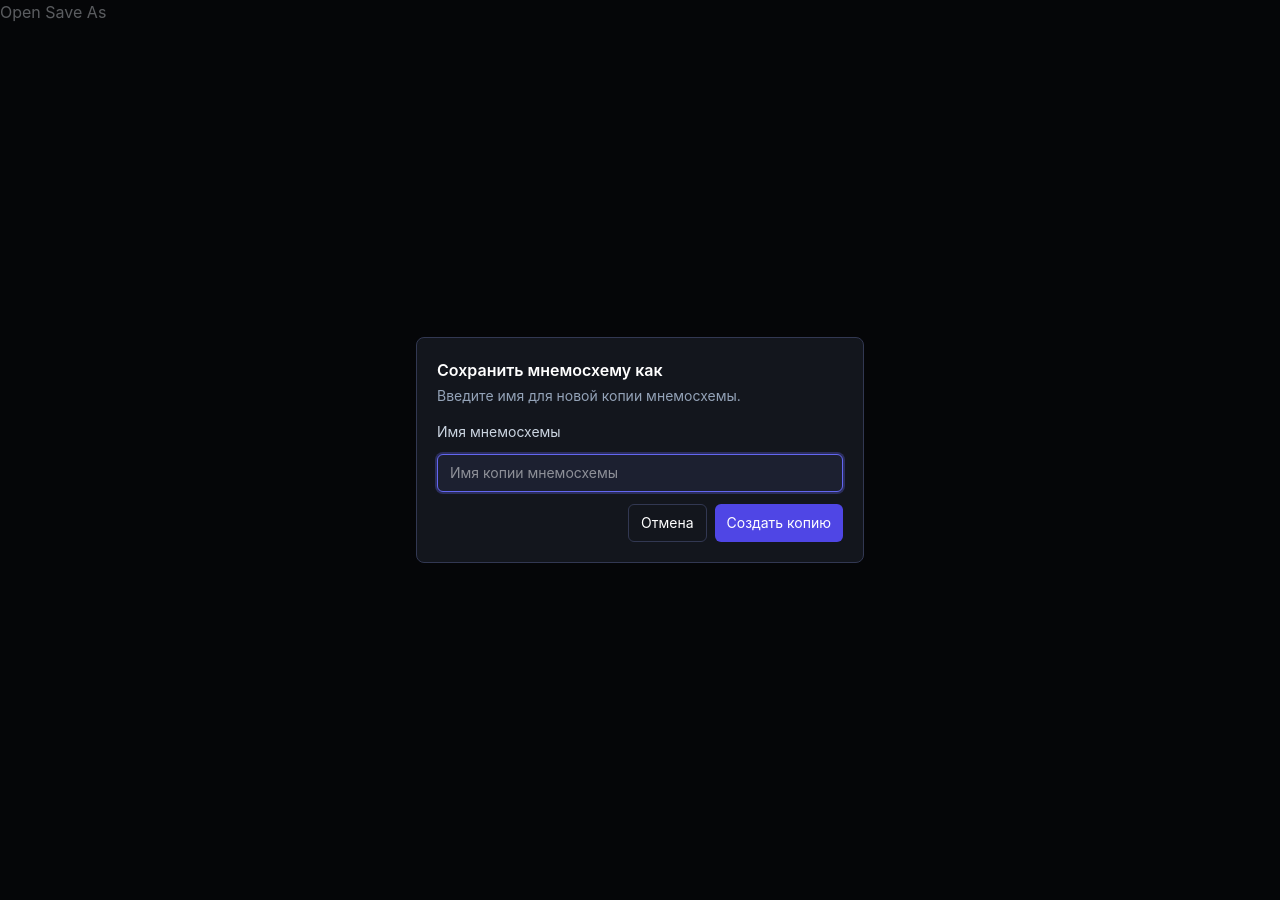
Test case: Hosted constructor save flow coverage (T016) › runs Save As naming flow through dialog + clone API with trimmed name (T019)
This screenshot has width=1280, height=900.
Click the button "Создать копию".
click(779, 523)  # box [714,504,843,542]
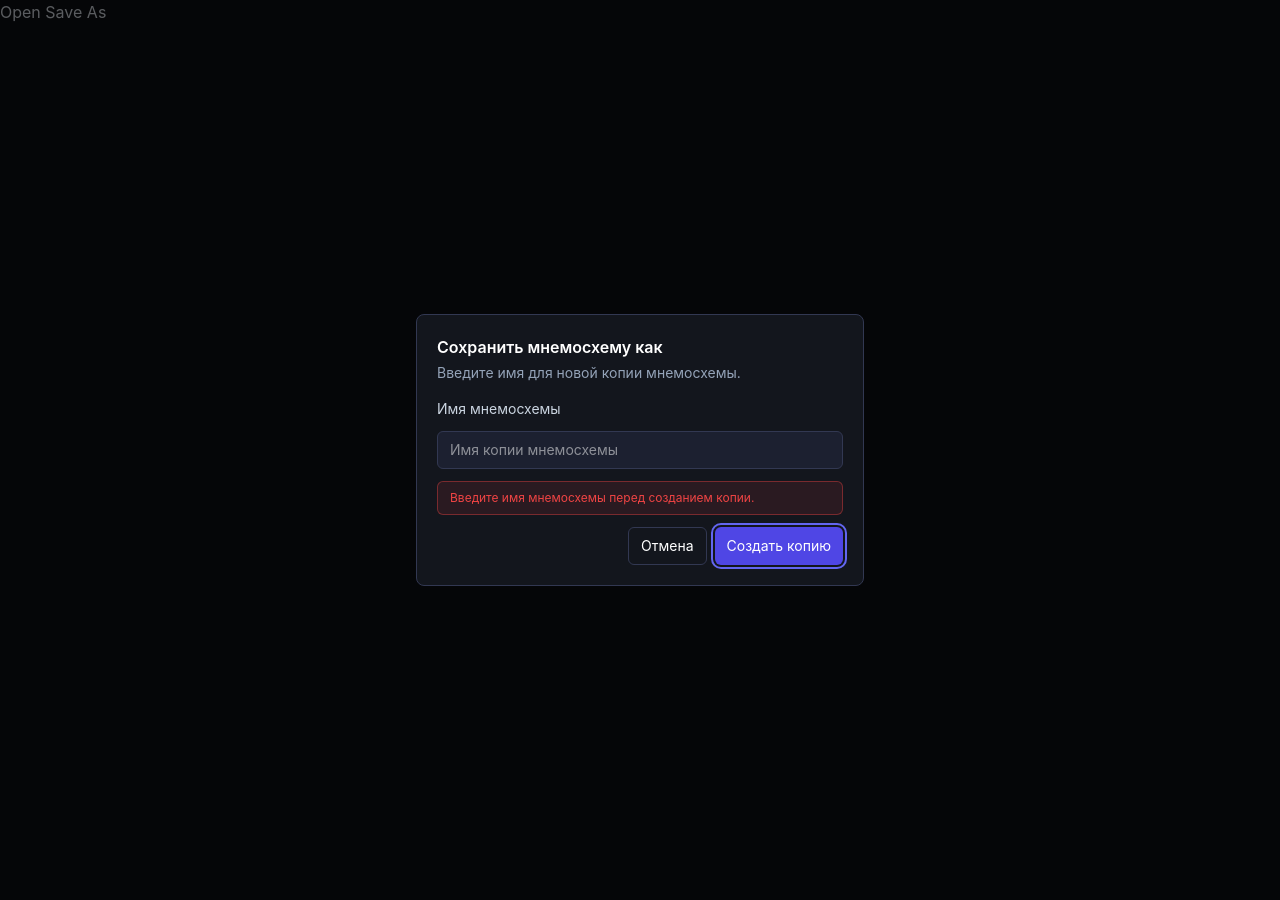
Now the text "Введите имя мнемосхемы перед созданием копии." is shown, box [437,481,843,515]
Type "   Boiler Hall Copy   " into the field labelled "Имя мнемосхемы".
click(640, 450); type("   Boiler Hall Copy   ")  # box [437,431,843,469]
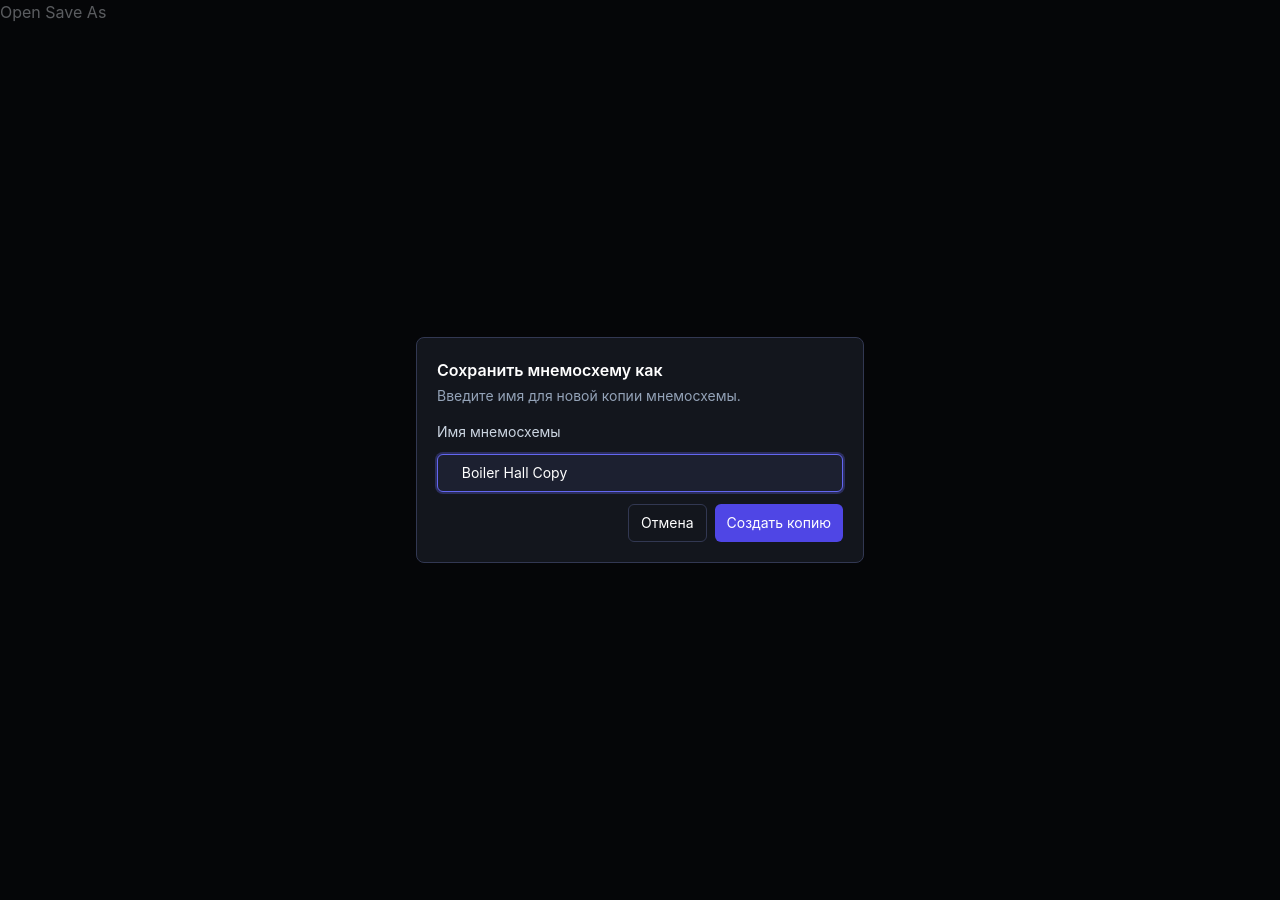
Click the button "Создать копию".
click(779, 523)  # box [714,504,843,542]
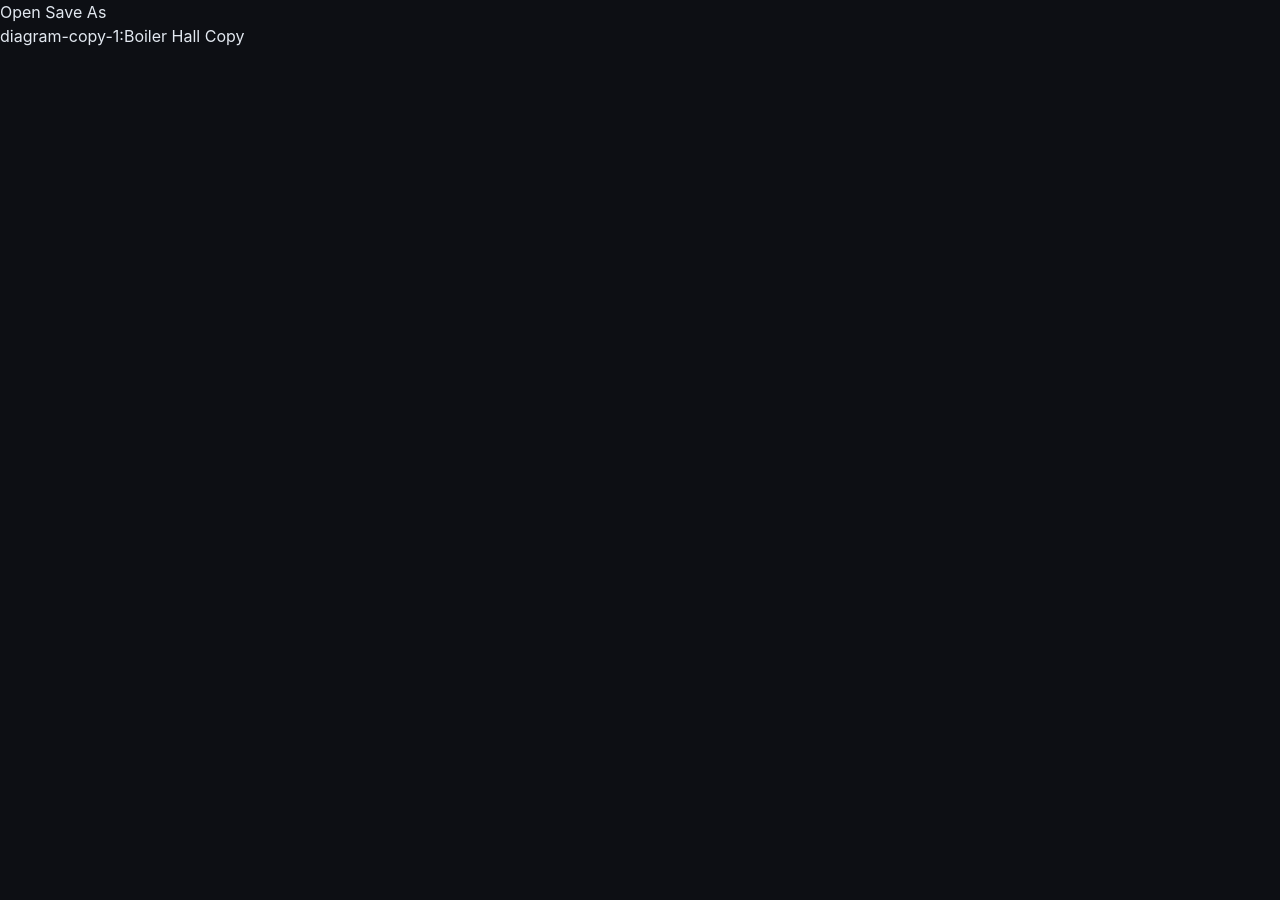
Now the text with test id "save-as-result" reads "diagram-copy-1:Boiler Hall Copy", box [0,26,244,46]
